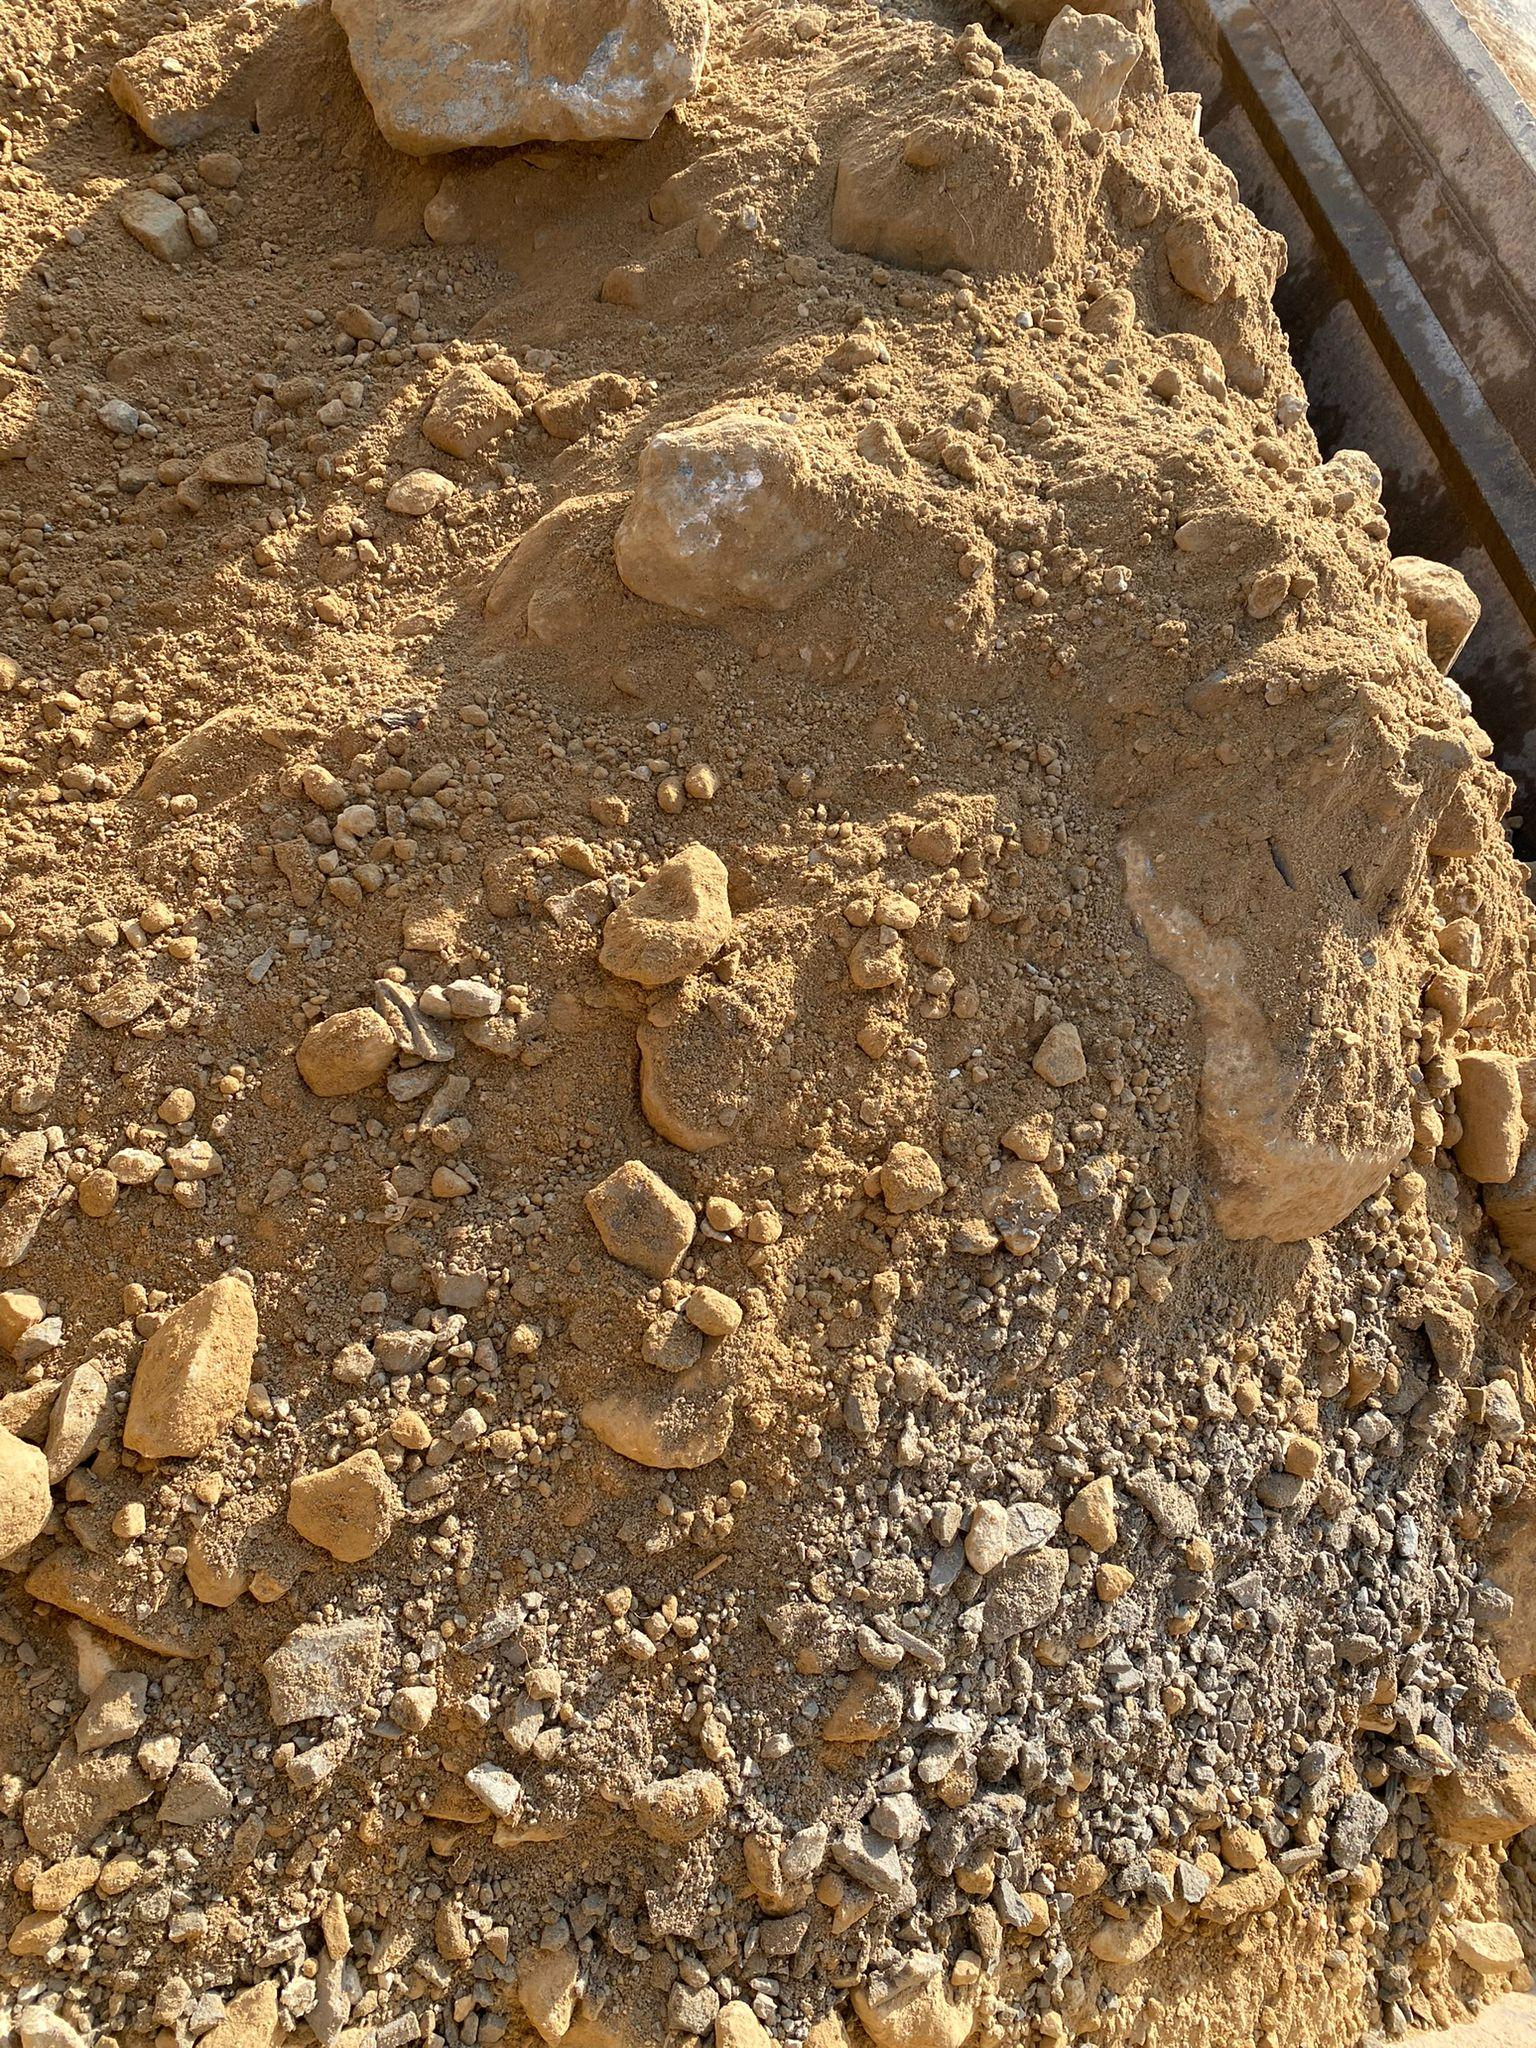dry: (0, 0, 1536, 2033)
